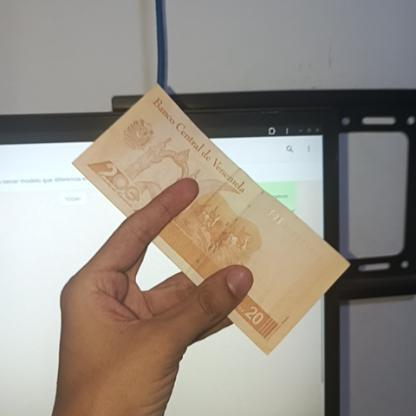vef_back: (71, 82, 350, 360)
